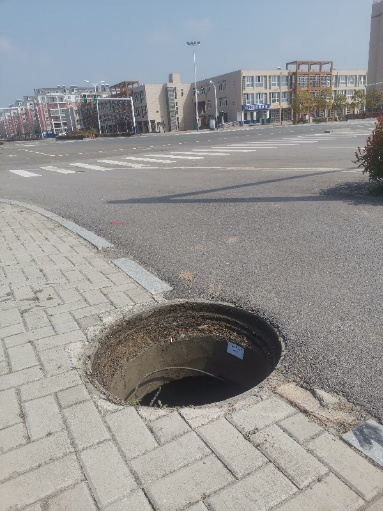lose: (80, 297, 287, 408)
